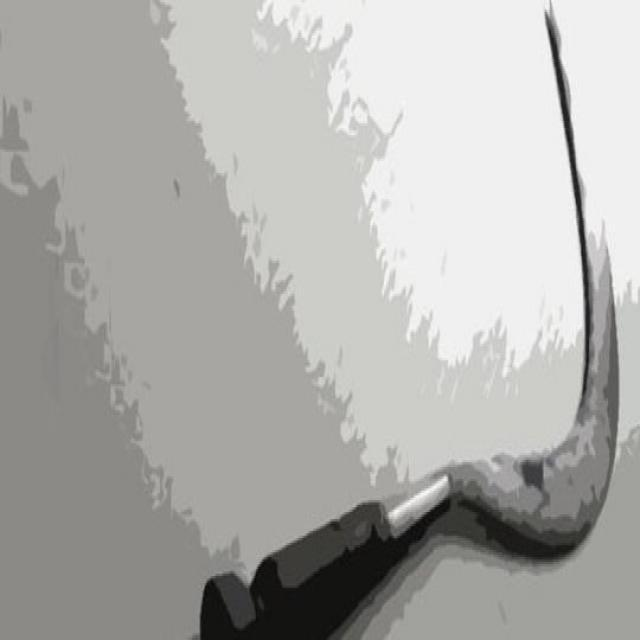machete: (203, 7, 621, 640)
